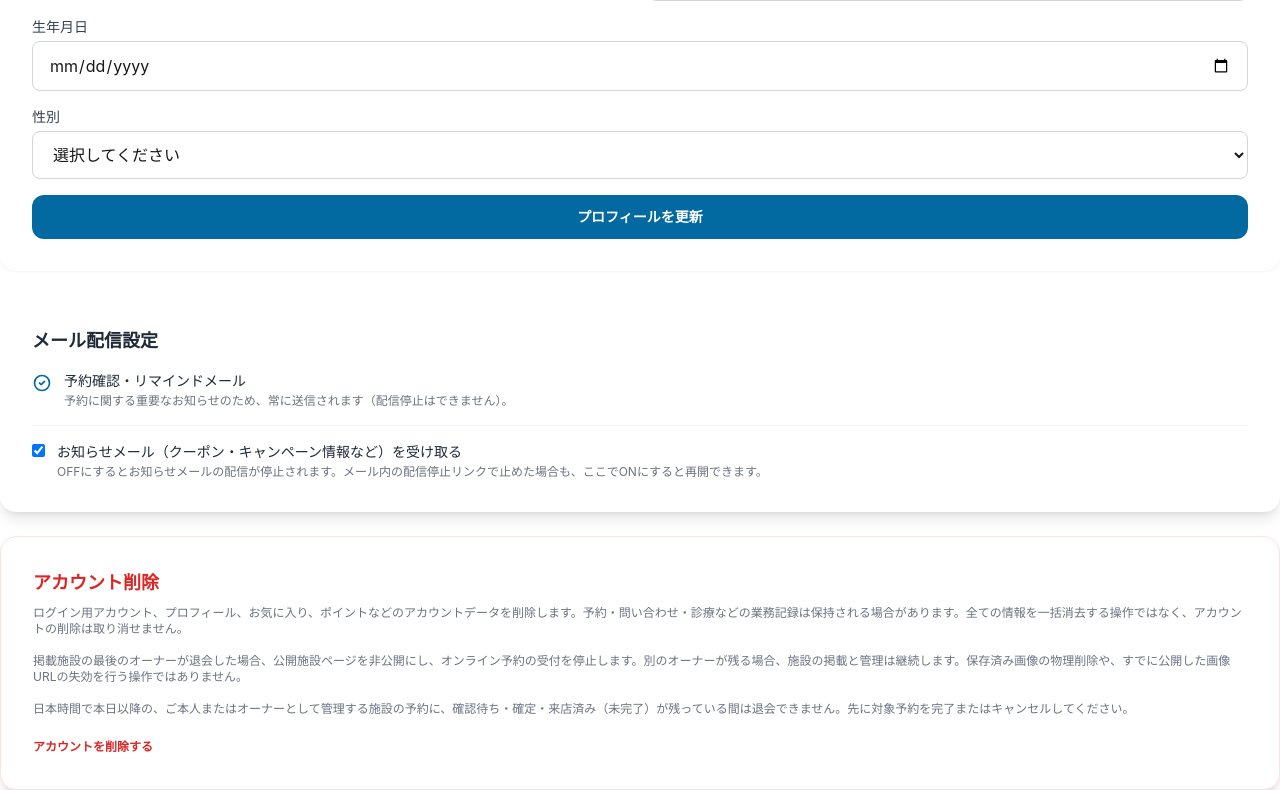
Test case: profile verified deletion with post-response cleanup failure stays confirmed, keeps warning and prevents resend
The width and height of the screenshot is (1280, 790).
(page scrolled)
Click the button "アカウントを削除する". click: (93,747)
box: [33, 739, 153, 755]
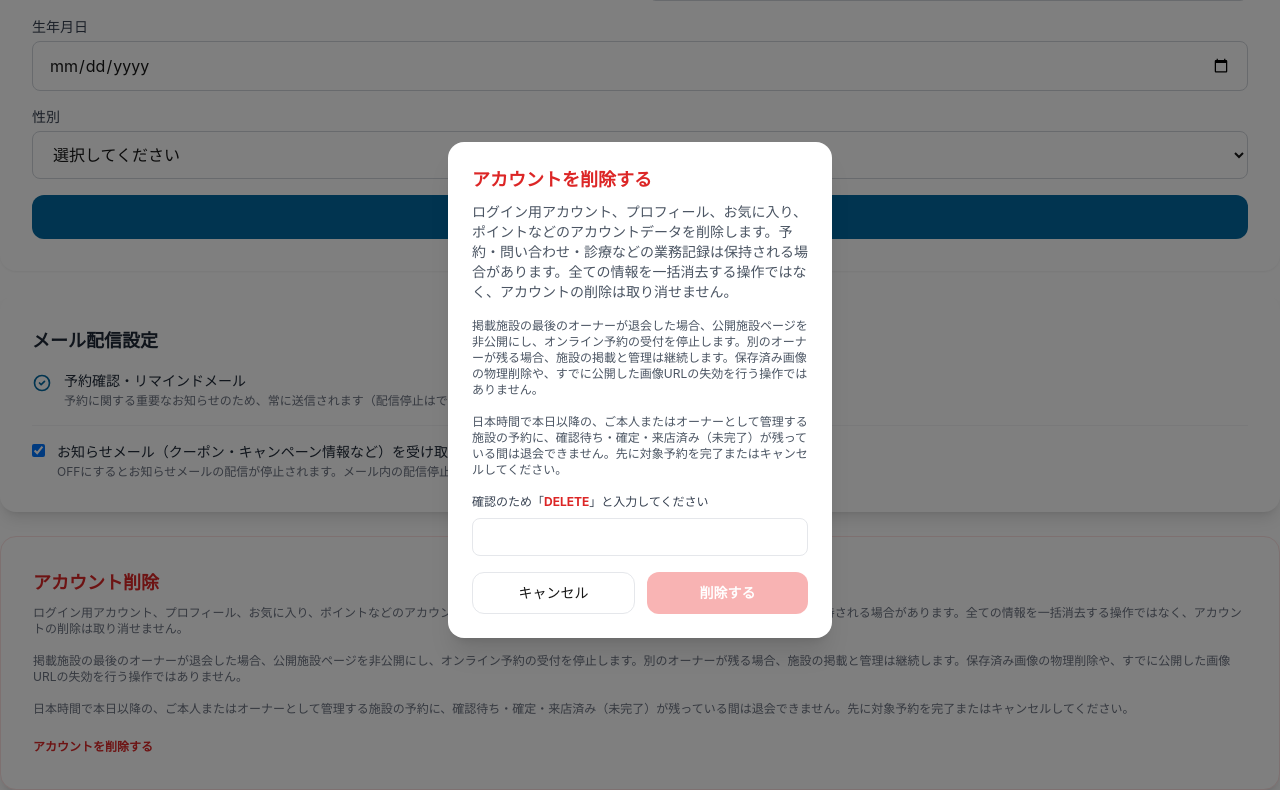
Type "DELETE" into the field named "確認コード DELETE を入力". click: (640,537)
box: [472, 518, 808, 556]
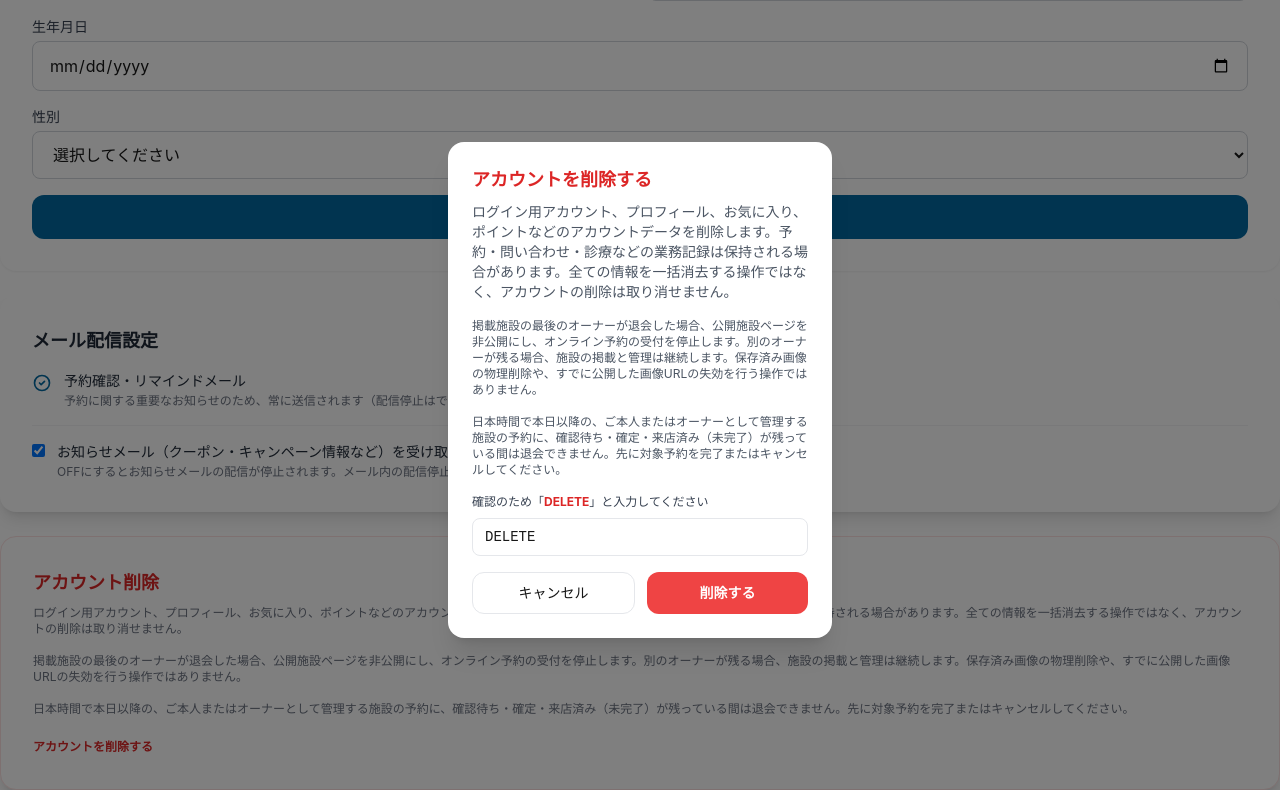
Click the button "削除する". click: (728,593)
box: [647, 572, 808, 614]
(page scrolled)
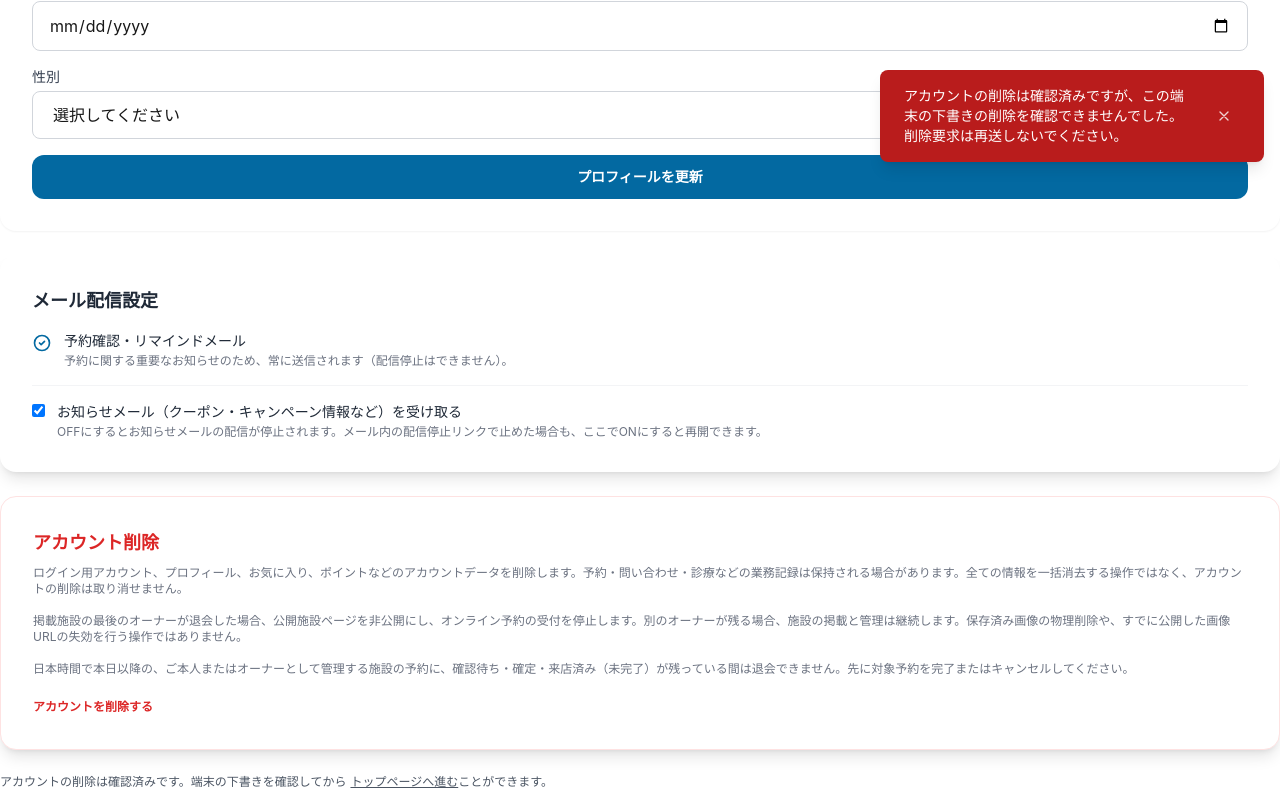
Now the message shows "アカウントの削除は確認済み", box [904, 87, 1184, 144]
Now the button "アカウントを削除する" is disabled, box [33, 699, 153, 715]
